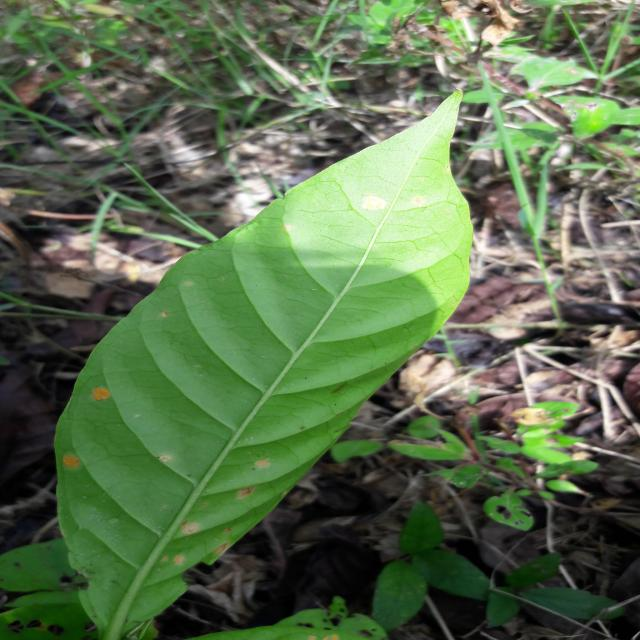Enfermedad-Roya: (53, 87, 474, 640)
